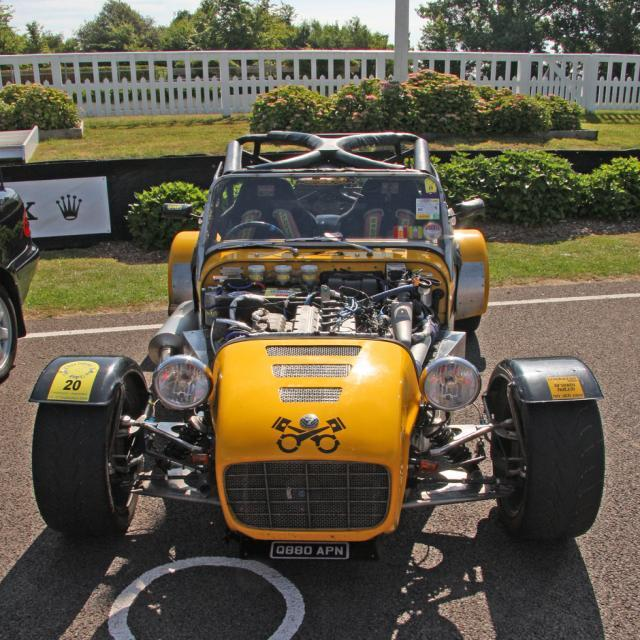truck: (72, 102, 556, 558)
